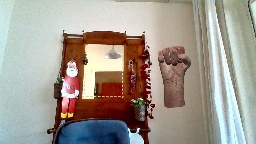Pugno: (154, 45, 192, 80)
